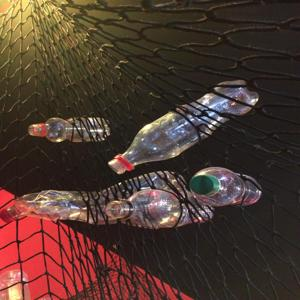bottle: (24, 110, 119, 148)
plastic: (187, 172, 219, 201), (1, 200, 15, 228)
plastic bottle: (109, 76, 268, 168), (4, 183, 185, 232), (112, 187, 226, 238), (21, 108, 123, 153), (190, 159, 264, 215)
